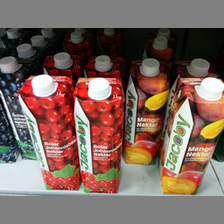juice: (158, 76, 224, 196), (17, 74, 79, 190), (73, 76, 123, 193), (125, 57, 170, 164)
